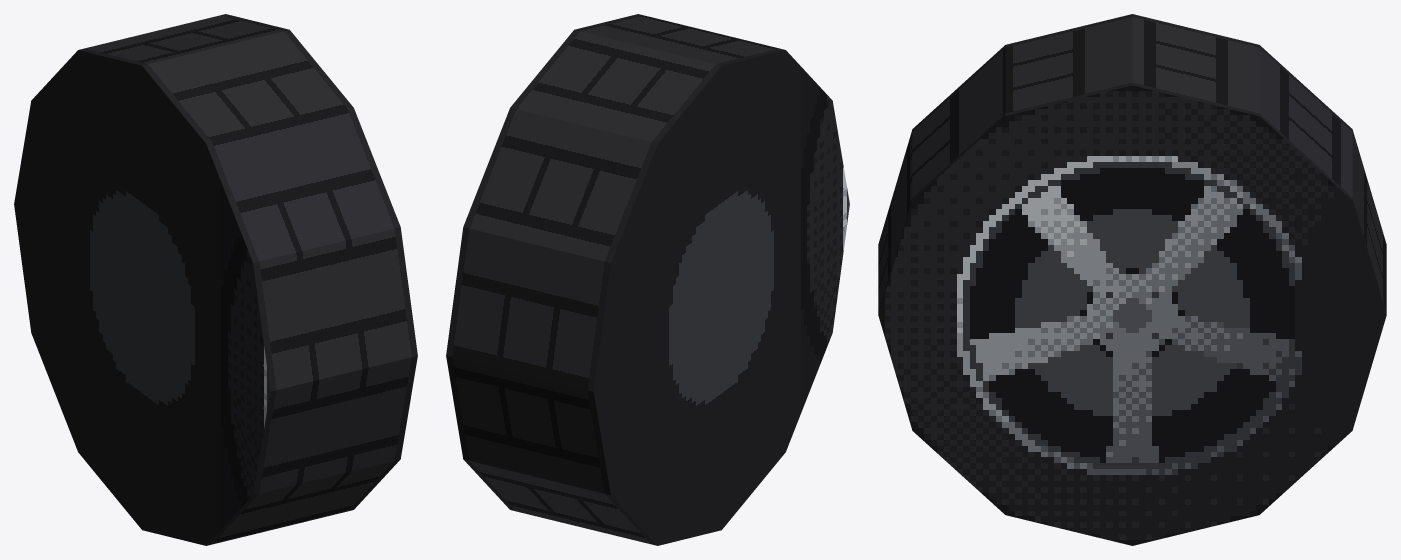
The model's file is wheel_stock.glb.
The picture shows the model from 3 angles, left to right: view 1: azimuth 30°, elevation 25°; view 2: azimuth 150°, elevation 25°; view 3: azimuth 270°, elevation 25°; orthographic projection.
Parts seen in each view (by area): view 1: wheel_stock; view 2: wheel_stock; view 3: wheel_stock.
Boxes of the visible parts, x1,y1,x2,y2 form: wheel_stock: (14,14,417,545); wheel_stock: (446,14,849,545); wheel_stock: (878,14,1386,545).
Size of the model in its own units: 0.205 by 0.6163 by 0.6163.
1 material, 1 textured.
